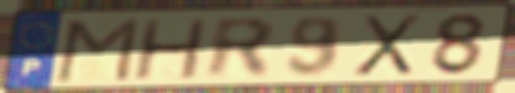8: (429, 12, 489, 77)
9: (284, 14, 342, 79)
H: (129, 16, 210, 82)
M: (51, 16, 143, 85)
R: (204, 16, 279, 81)
X: (350, 12, 425, 79)
